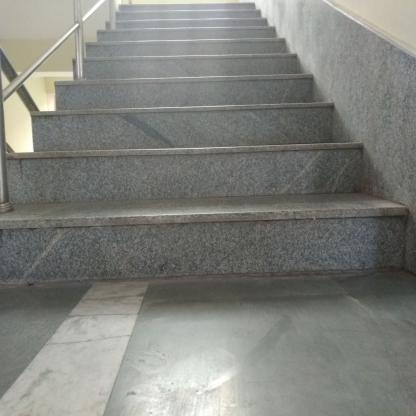stairs: (88, 36, 275, 294)
